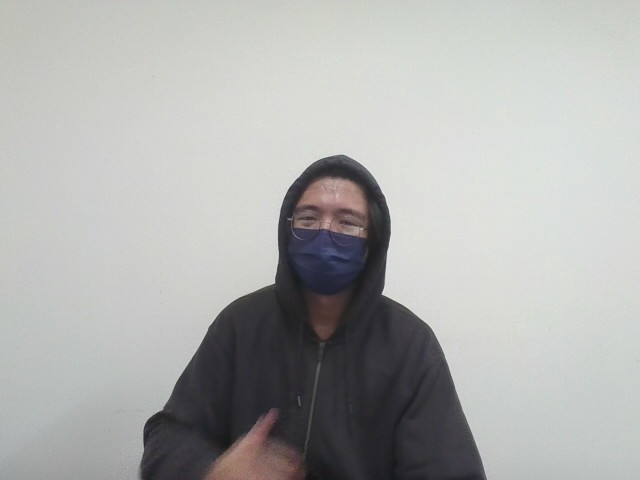No_Gloves: (199, 407, 304, 479)
No_Helmet: (272, 150, 392, 299)
person: (111, 133, 521, 480)
